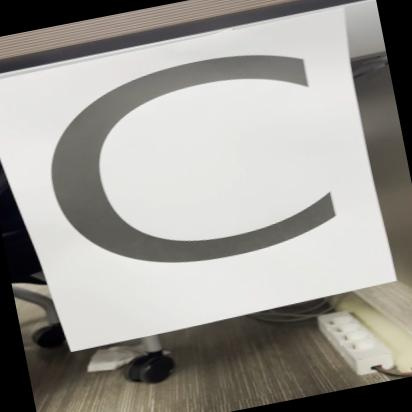seat: (0, 0, 410, 345)
